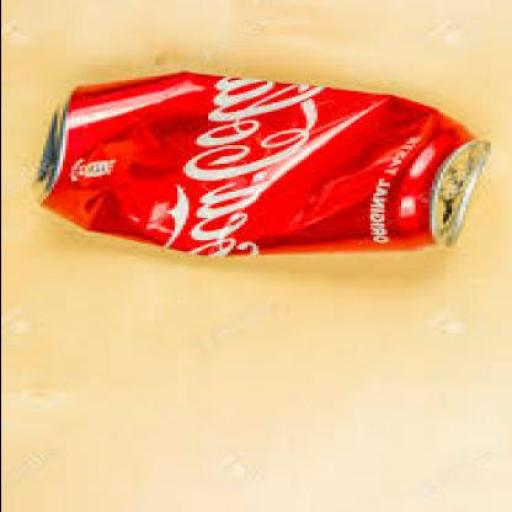metal: (34, 72, 492, 259)
